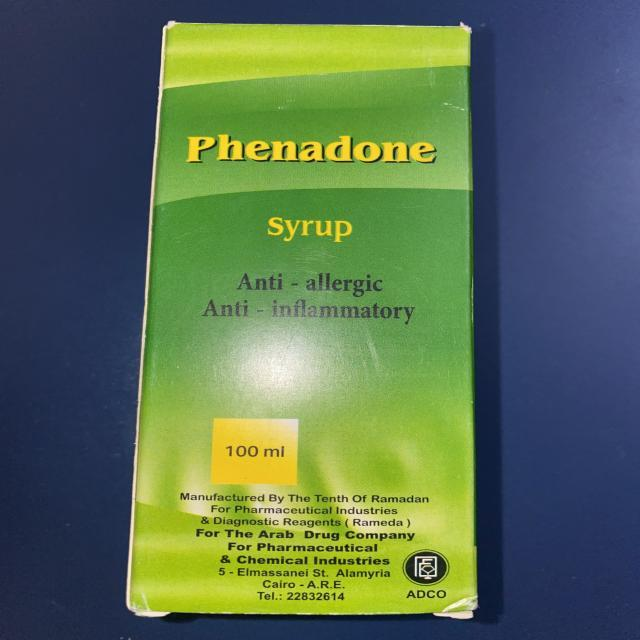Medicine Name: (176, 124, 450, 180)
